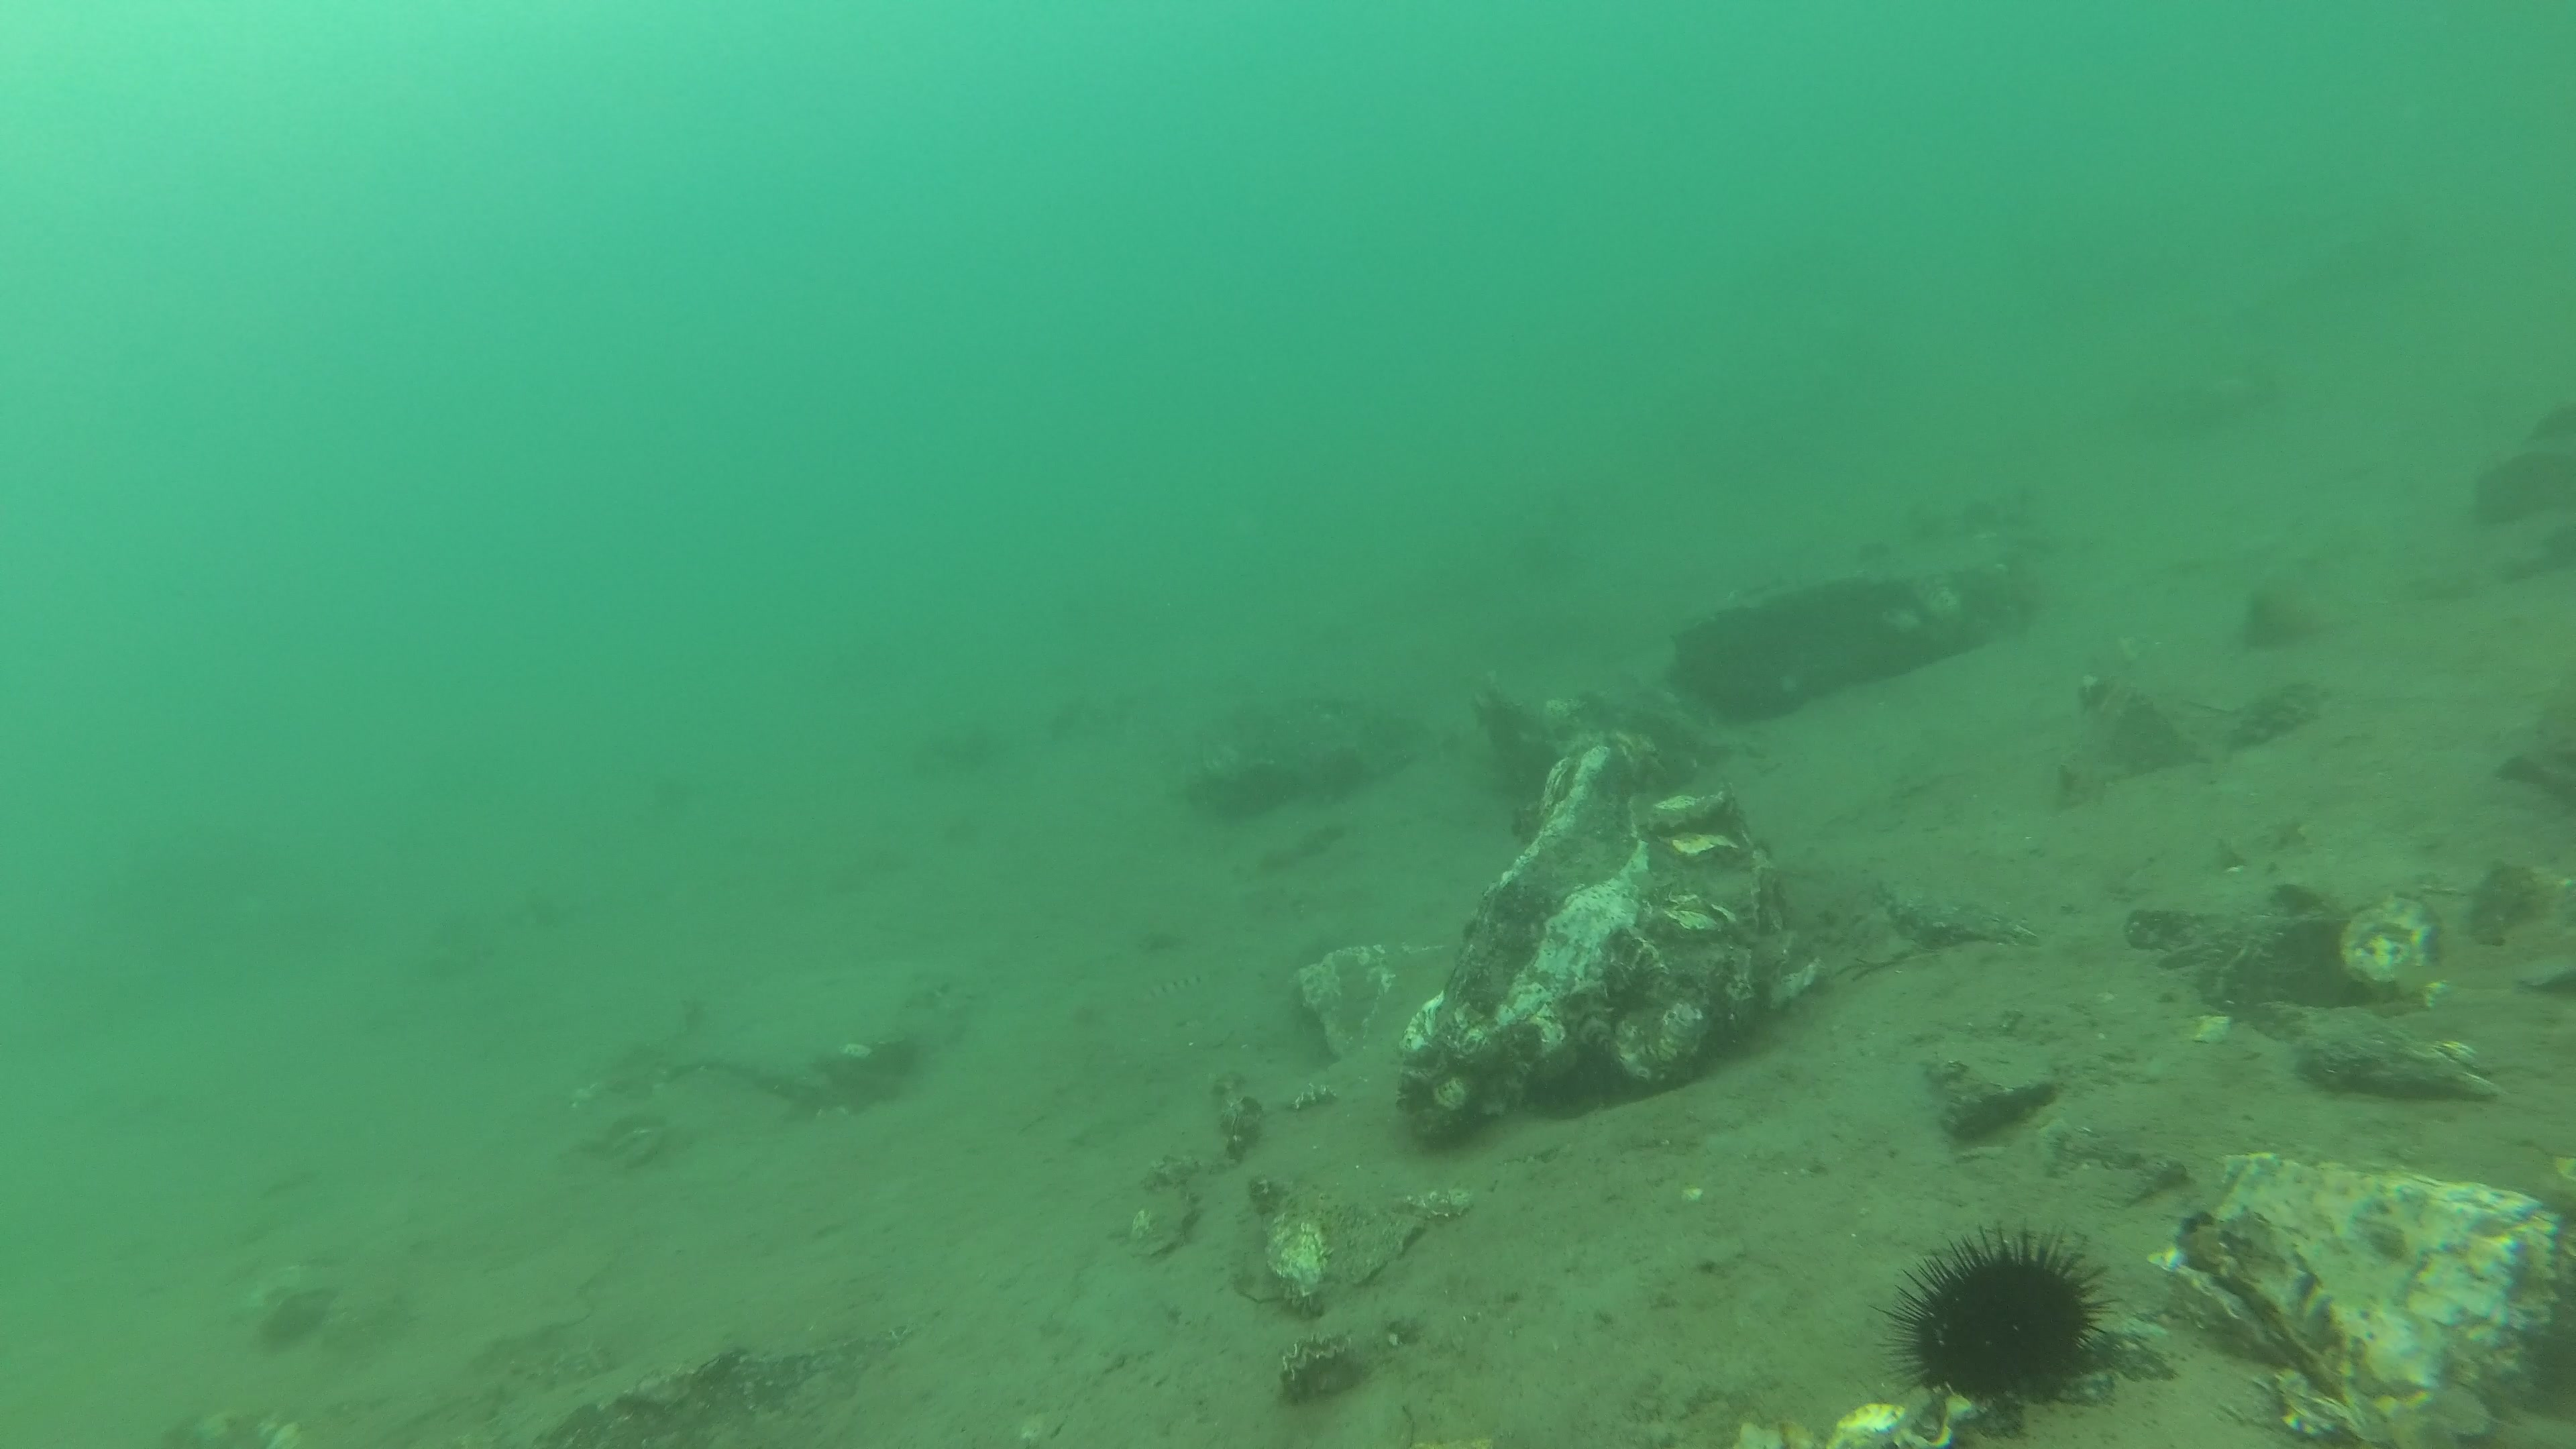echinus: (1870, 1221, 2127, 1407)
